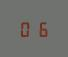six: (34, 20, 48, 37)
zero: (19, 20, 33, 37)
